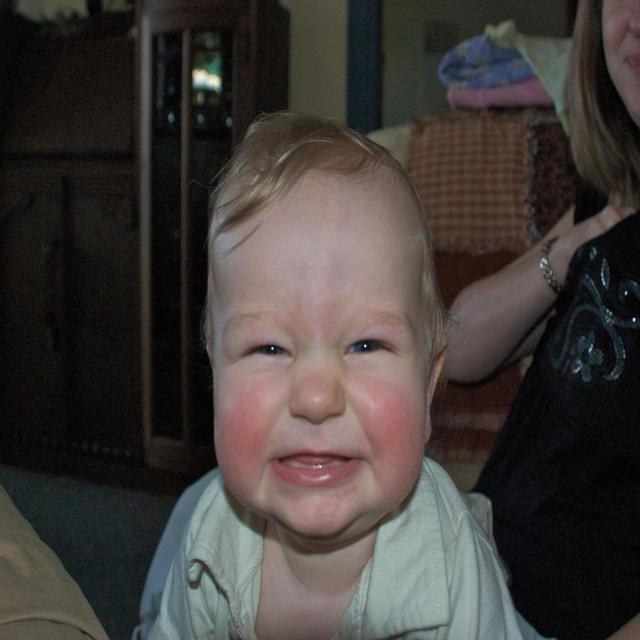no-glass: (240, 327, 393, 362)
